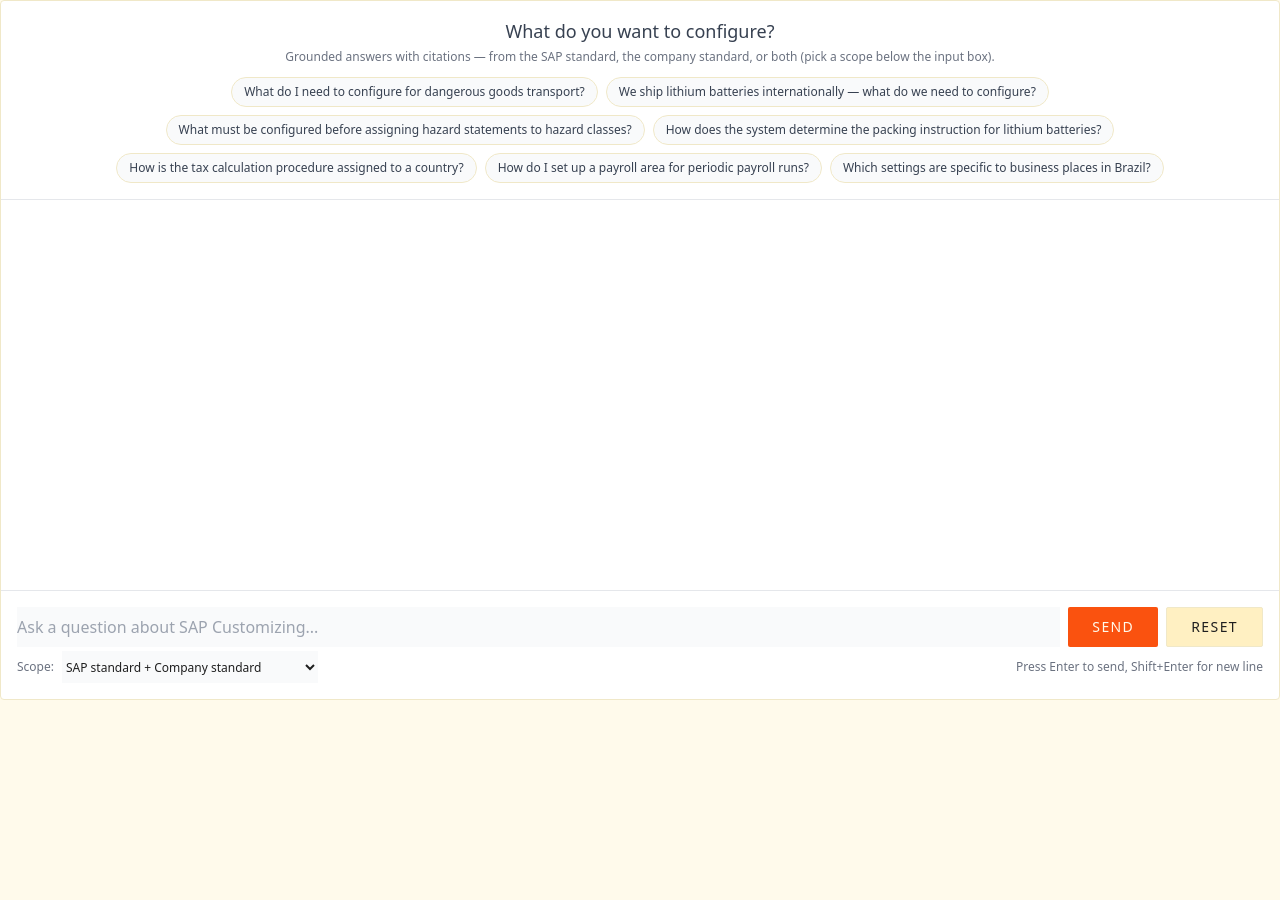
Test: HomePage › renders markdown content correctly
Type "Test" into the field with placeholder "Ask a question about SAP Customizing..." at (539, 627), box [17,607,1060,647]
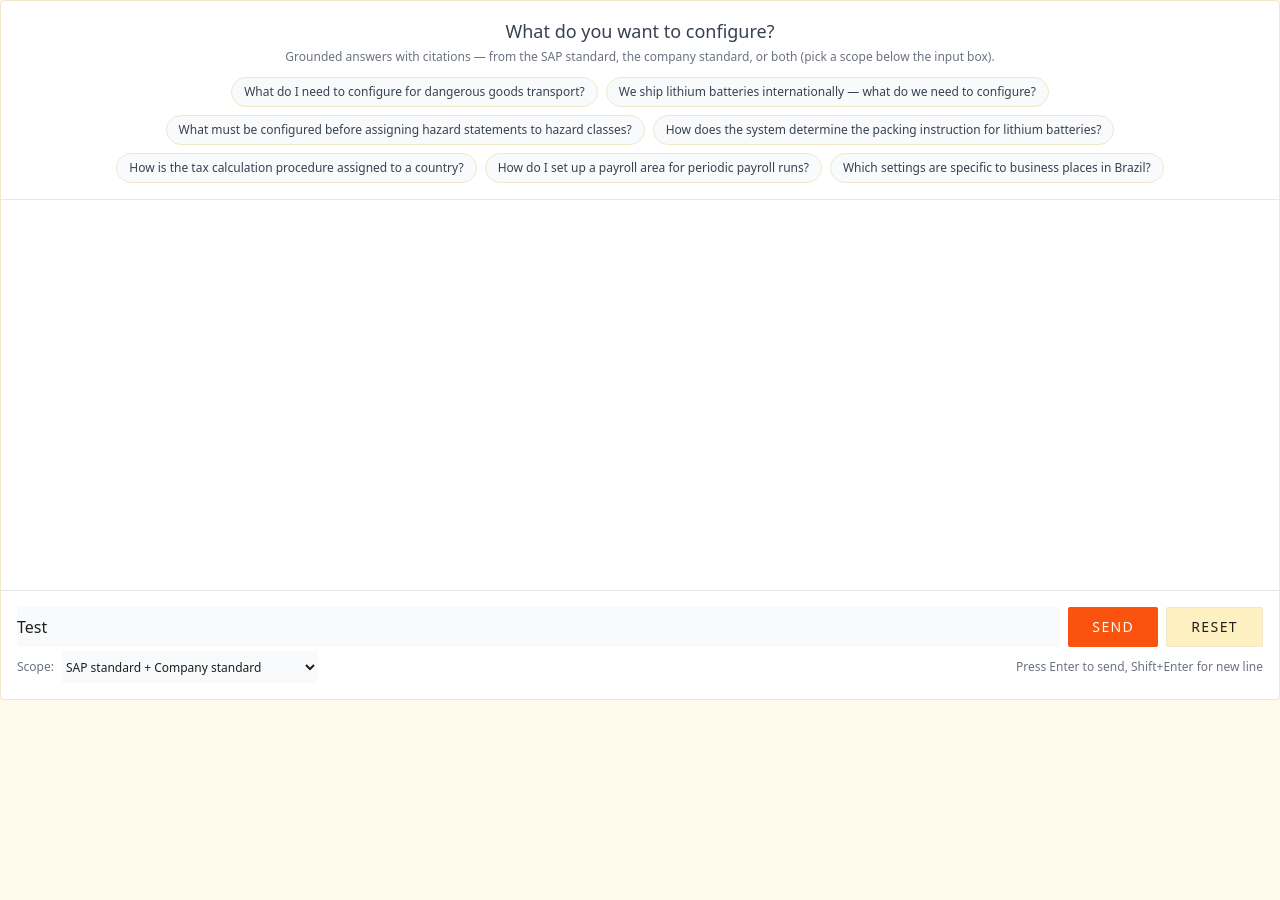
Press Enter in the field with placeholder "Ask a question about SAP Customizing...", box [17,607,1060,647]
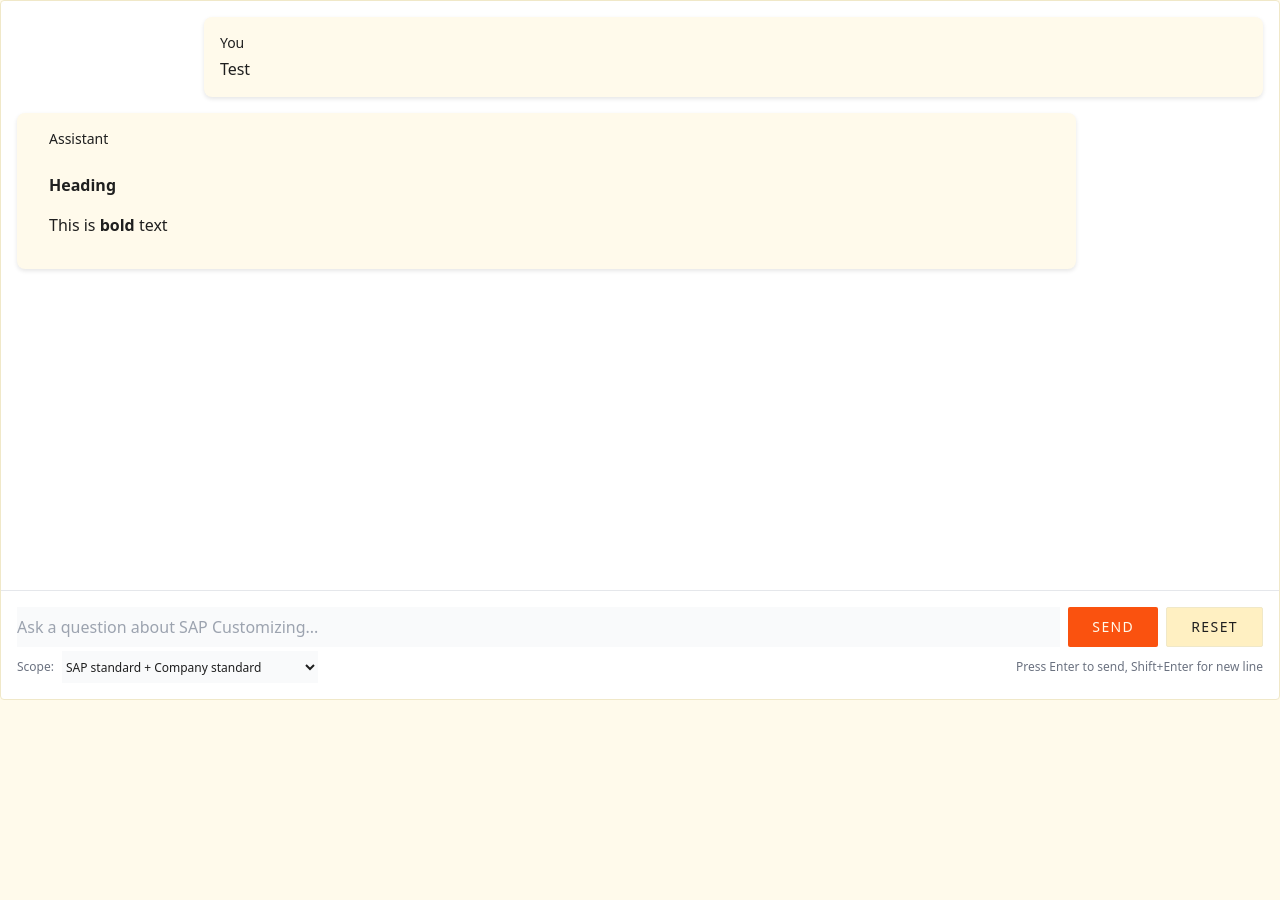
Now the text "Assistant" is shown, box [49,129,108,148]
Now the heading "Heading" is shown, box [49,174,116,196]
